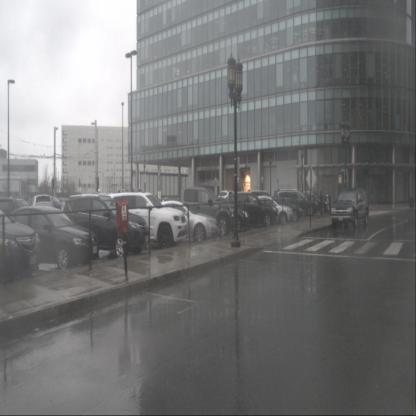vehicle-car: (5, 205, 100, 270), (60, 192, 150, 258), (103, 193, 188, 248), (149, 198, 218, 244), (0, 205, 43, 278), (0, 198, 43, 242), (228, 190, 277, 226), (331, 186, 369, 230), (244, 195, 294, 225), (273, 188, 319, 218), (208, 200, 251, 232), (29, 195, 54, 235), (265, 196, 304, 221), (295, 191, 329, 214), (218, 189, 236, 207)
vehicle-truck: (160, 184, 238, 234)
